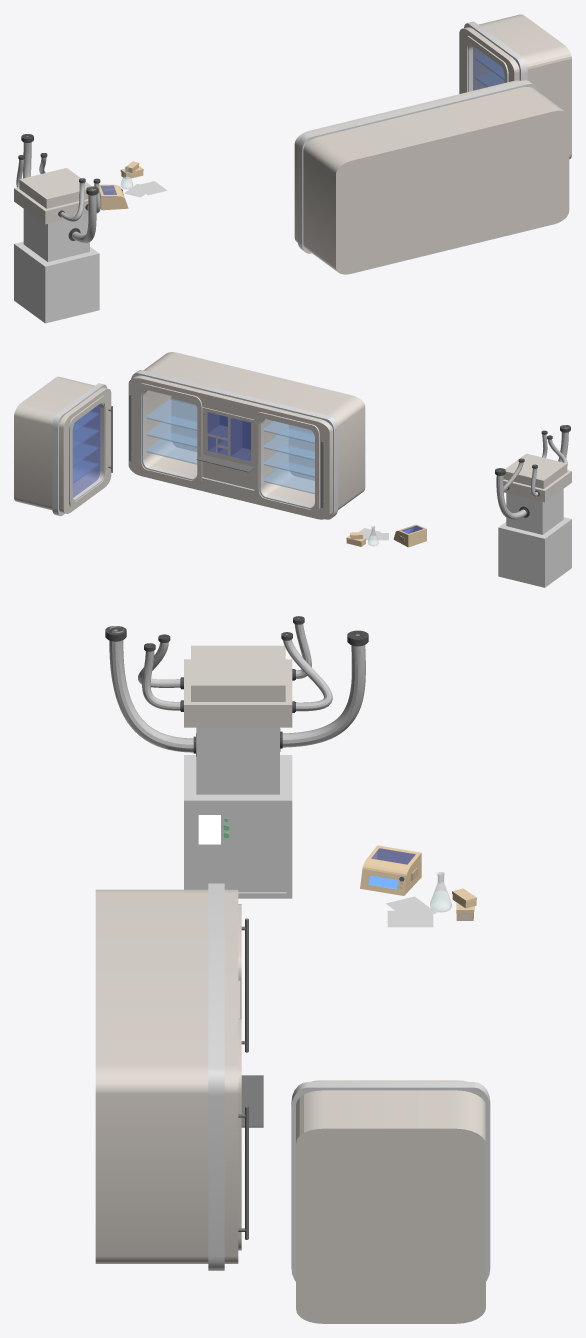
Rendered from Labo_Chimie_Modé.fbx.
3 renders of one model, top to bottom at view 1: azimuth 30°, elevation 25°; view 2: azimuth 150°, elevation 25°; view 3: azimuth 270°, elevation 25°, orthographic. The views are drawn at different scales.
Visible parts, largest first — view 1: placard, placard_petit, Cuve_Bas, Socle_Haaut, Vitre, Tubes_Cuve_iso, boite_detude; view 2: placard, placard_petit, Cuve_Bas, Socle_Haaut, Vitre, Tubes_Cuve_iso, boite_detude; view 3: placard, placard_petit, Cuve_Bas, Socle_Haaut, Tubes_Cuve_iso, Vitre, boite_detude.
Boxes of the visible parts, left/top/right/bottom form: placard: left=294, top=80, right=569, bottom=274; placard_petit: left=459, top=14, right=571, bottom=159; Cuve_Bas: left=14, top=241, right=99, bottom=323; Socle_Haaut: left=14, top=168, right=91, bottom=224; Vitre: left=23, top=209, right=89, bottom=261; Tubes_Cuve_iso: left=16, top=134, right=100, bottom=243; boite_detude: left=99, top=184, right=128, bottom=210; placard: left=128, top=352, right=365, bottom=519; placard_petit: left=14, top=376, right=112, bottom=516; Cuve_Bas: left=498, top=517, right=571, bottom=587; Socle_Haaut: left=503, top=453, right=571, bottom=502; Vitre: left=506, top=489, right=563, bottom=534; Tubes_Cuve_iso: left=495, top=425, right=570, bottom=519; boite_detude: left=393, top=524, right=426, bottom=547; placard: left=95, top=883, right=263, bottom=1270; placard_petit: left=291, top=1080, right=490, bottom=1323; Cuve_Bas: left=184, top=755, right=292, bottom=898; Socle_Haaut: left=184, top=645, right=292, bottom=727; Tubes_Cuve_iso: left=105, top=616, right=368, bottom=756; Vitre: left=196, top=727, right=279, bottom=794; boite_detude: left=360, top=845, right=421, bottom=895.
Size of the model in its own units: 1257 by 445 by 312.
